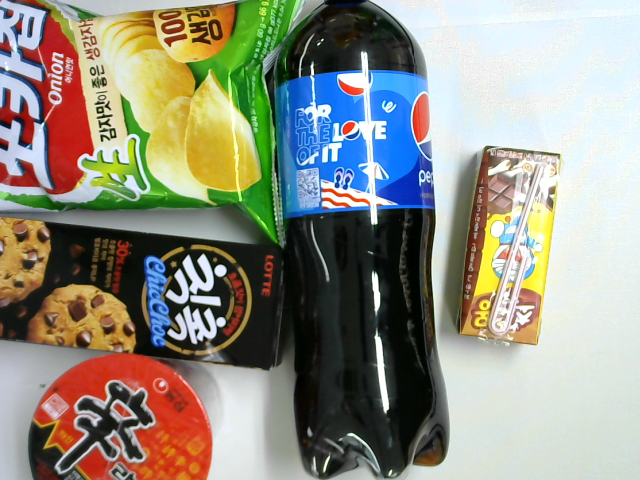Chicchok_Original_2400: (1, 214, 293, 371)
Choco_E_Mong: (453, 143, 561, 348)
Pepsi_Cola_1.5L: (272, 1, 452, 479)
Pocachip_Onion: (1, 1, 309, 248)
Sinramen_small: (28, 350, 224, 480)
